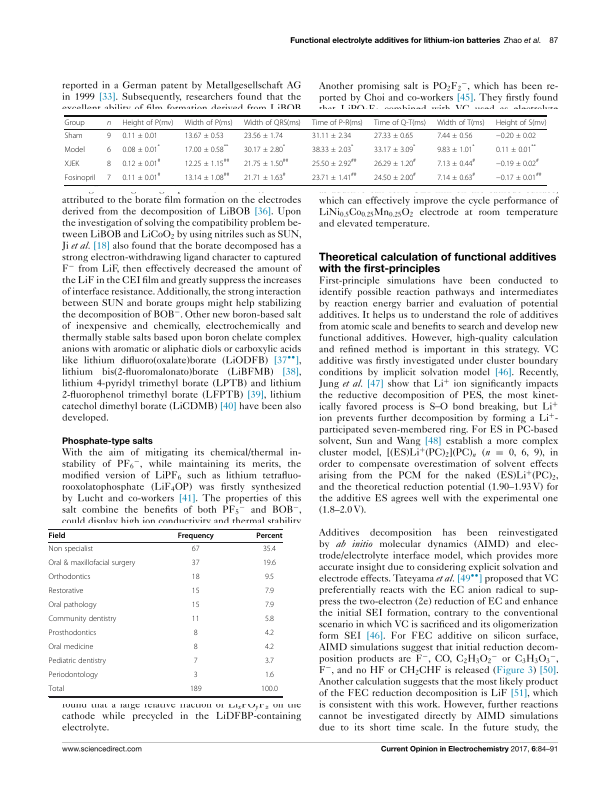borderless: (47, 528, 282, 696), (64, 114, 547, 185)
cell: (48, 559, 136, 569), (48, 615, 117, 625), (48, 657, 107, 667), (243, 118, 302, 127), (495, 171, 542, 182), (48, 671, 99, 681), (184, 157, 230, 168), (243, 157, 289, 168), (311, 157, 357, 168), (184, 171, 230, 182), (311, 171, 357, 182), (184, 143, 229, 154), (495, 157, 540, 168), (48, 601, 97, 611), (48, 629, 97, 639), (373, 118, 427, 127), (373, 157, 417, 168), (243, 171, 287, 182), (373, 171, 417, 182), (121, 118, 174, 127), (311, 118, 364, 127), (243, 143, 286, 154), (311, 143, 354, 154), (373, 143, 416, 154), (495, 118, 547, 127), (495, 143, 537, 154), (48, 545, 94, 555), (48, 643, 94, 653), (436, 118, 486, 127), (184, 118, 233, 127), (121, 143, 161, 154), (436, 143, 476, 154), (121, 157, 161, 168), (436, 157, 476, 168), (121, 171, 161, 182), (436, 171, 476, 182), (48, 573, 91, 583), (495, 131, 537, 140), (184, 131, 225, 140), (243, 131, 284, 140), (311, 131, 352, 140), (373, 131, 414, 140), (48, 587, 84, 597), (121, 131, 159, 140), (177, 532, 215, 541), (436, 131, 473, 140), (64, 173, 96, 182), (255, 532, 283, 541), (64, 145, 86, 154), (260, 685, 279, 695), (64, 118, 85, 127), (64, 131, 83, 140), (48, 685, 65, 695), (48, 532, 66, 541), (262, 545, 277, 555), (262, 559, 277, 569), (64, 159, 80, 168), (189, 685, 202, 695), (264, 573, 275, 583), (264, 587, 275, 597), (264, 601, 275, 611), (264, 615, 275, 625), (264, 629, 275, 639), (264, 643, 275, 653), (264, 657, 275, 667), (264, 671, 275, 681), (191, 545, 200, 555), (191, 559, 200, 569), (191, 573, 200, 583), (191, 587, 200, 597), (191, 601, 200, 611), (191, 615, 200, 625), (193, 629, 199, 639), (193, 643, 199, 653), (193, 657, 199, 667), (193, 671, 199, 681), (106, 131, 112, 140), (106, 145, 112, 154), (106, 159, 112, 168), (106, 173, 112, 182), (106, 120, 112, 126)
